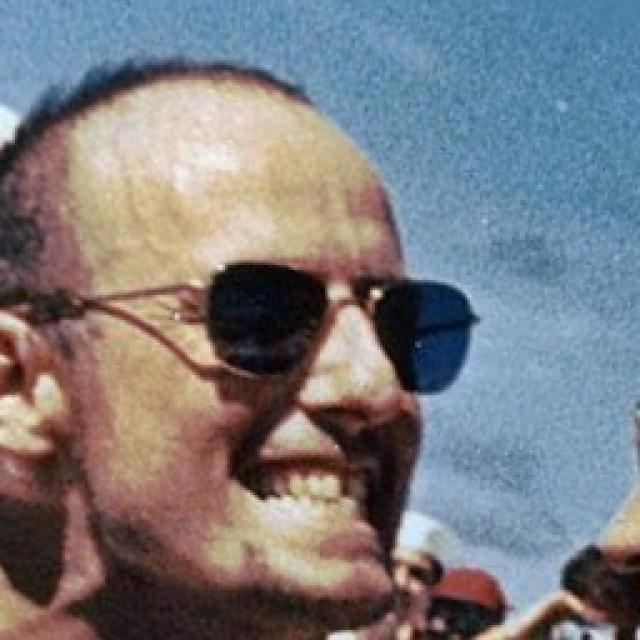glasses: (176, 246, 478, 404)
